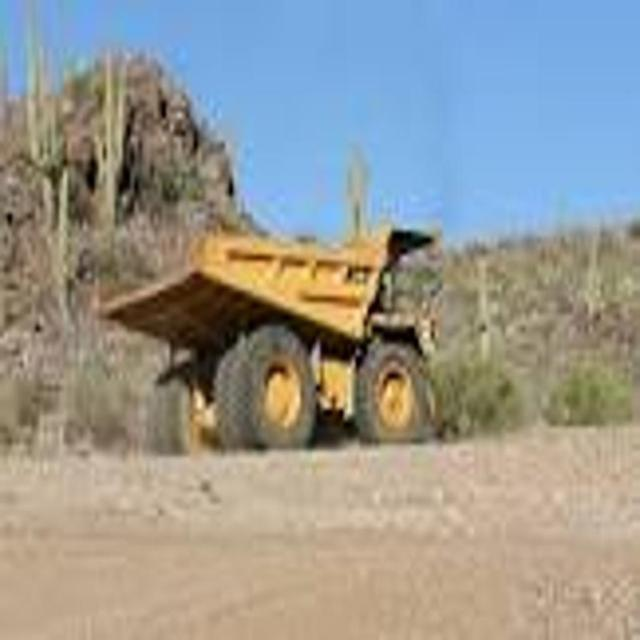dump_truck: (100, 211, 449, 454)
